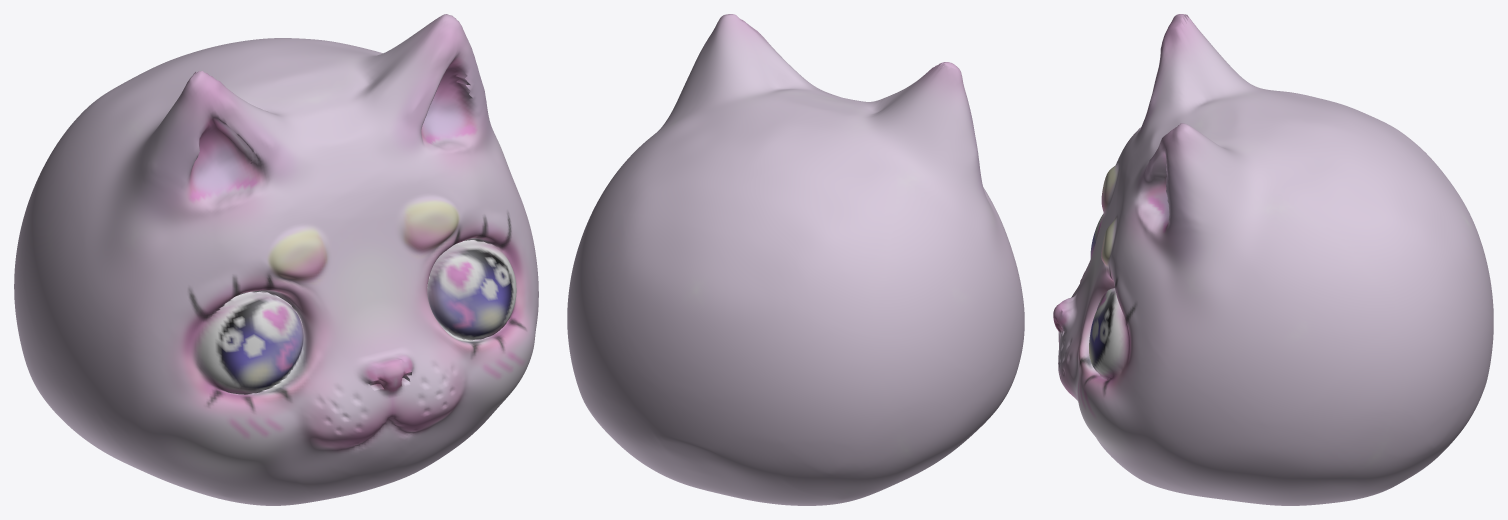
File: pink_cat_head.glb
3 views of the same model, side by side, from view 1: azimuth 30°, elevation 25°; view 2: azimuth 150°, elevation 25°; view 3: azimuth 270°, elevation 25° (orthographic). The views are drawn at different scales.
Parts seen in each view (by area): view 1: Object_2, Object_3; view 2: Object_2, Object_3; view 3: Object_2, Object_3.
Boxes of the visible parts, bbox=[...] form: Object_2: bbox=[14, 38, 534, 502]; Object_3: bbox=[58, 14, 538, 505]; Object_2: bbox=[567, 120, 1024, 505]; Object_3: bbox=[573, 14, 985, 504]; Object_2: bbox=[1053, 80, 1493, 505]; Object_3: bbox=[1062, 14, 1493, 505].
Size of the model in its own units: 48.47 by 47.67 by 46.88.
